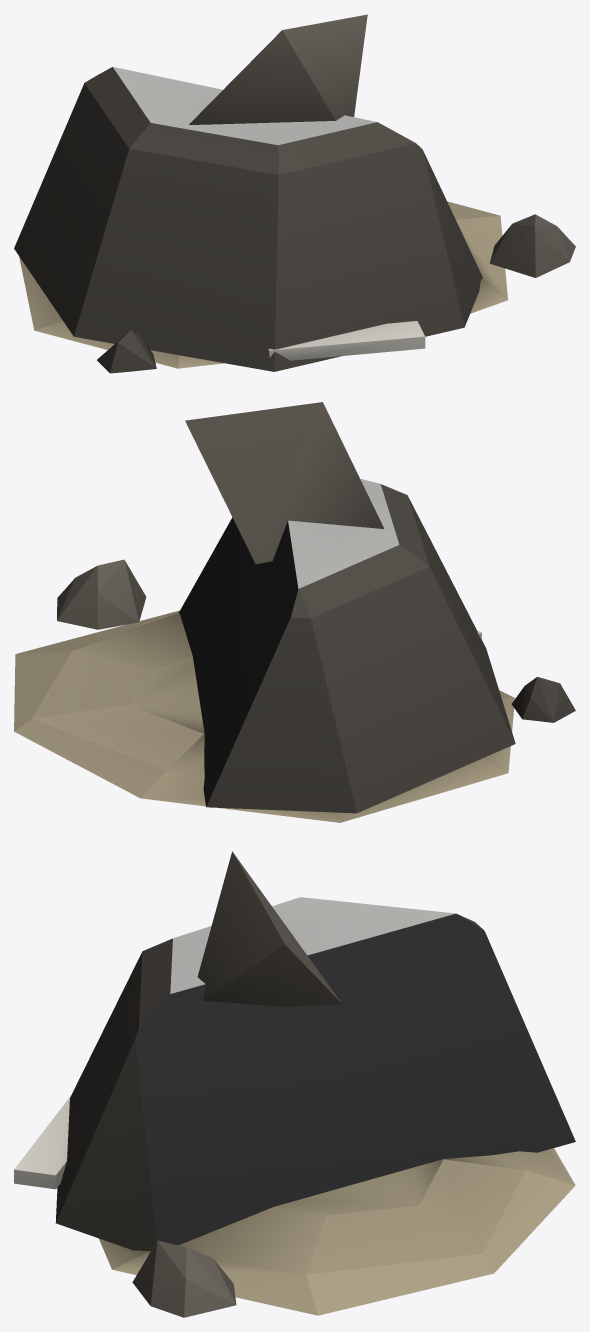
The model's file is reef_rock_a.glb.
3 renders of one model, top to bottom at view 1: azimuth 30°, elevation 25°; view 2: azimuth 150°, elevation 25°; view 3: azimuth 270°, elevation 25°, orthographic. The views are drawn at different scales.
Parts seen in each view (by area): view 1: body; view 2: body; view 3: body.
Part boxes in pixels (bbox=[...]): body: bbox=[14, 14, 575, 373]; body: bbox=[14, 402, 575, 822]; body: bbox=[14, 851, 575, 1317].
Size of the model in its own units: 1.48 by 0.81 by 1.27.
